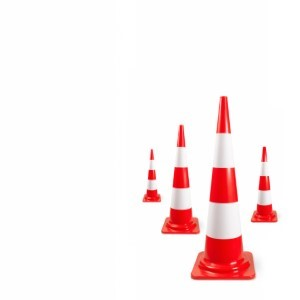traffic cone: (190, 95, 256, 280), (161, 123, 200, 235), (250, 147, 278, 222), (142, 147, 162, 203)
